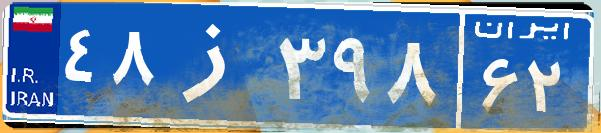2: (525, 38, 570, 115)
3: (273, 28, 330, 110)
4: (57, 26, 110, 107)
6: (475, 38, 525, 113)
8: (385, 28, 445, 110), (110, 28, 158, 105)
9: (330, 28, 385, 110)
ز: (158, 15, 273, 115)
